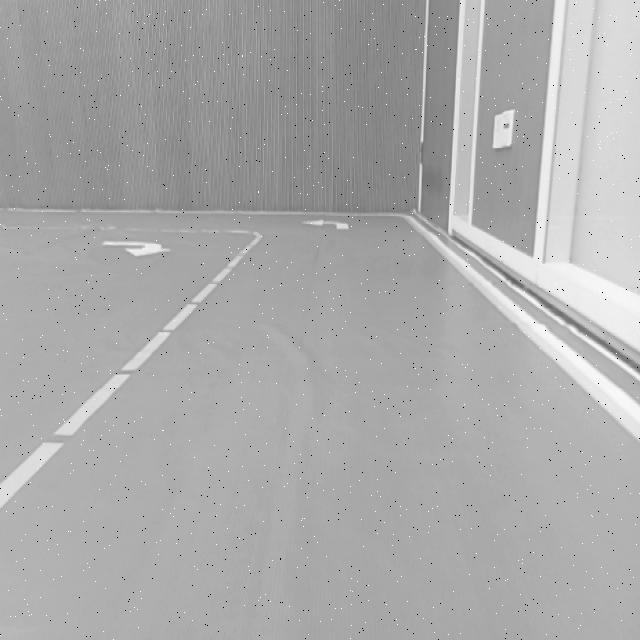left_lane: (0, 236, 260, 506)
right_lane: (404, 218, 640, 441)
